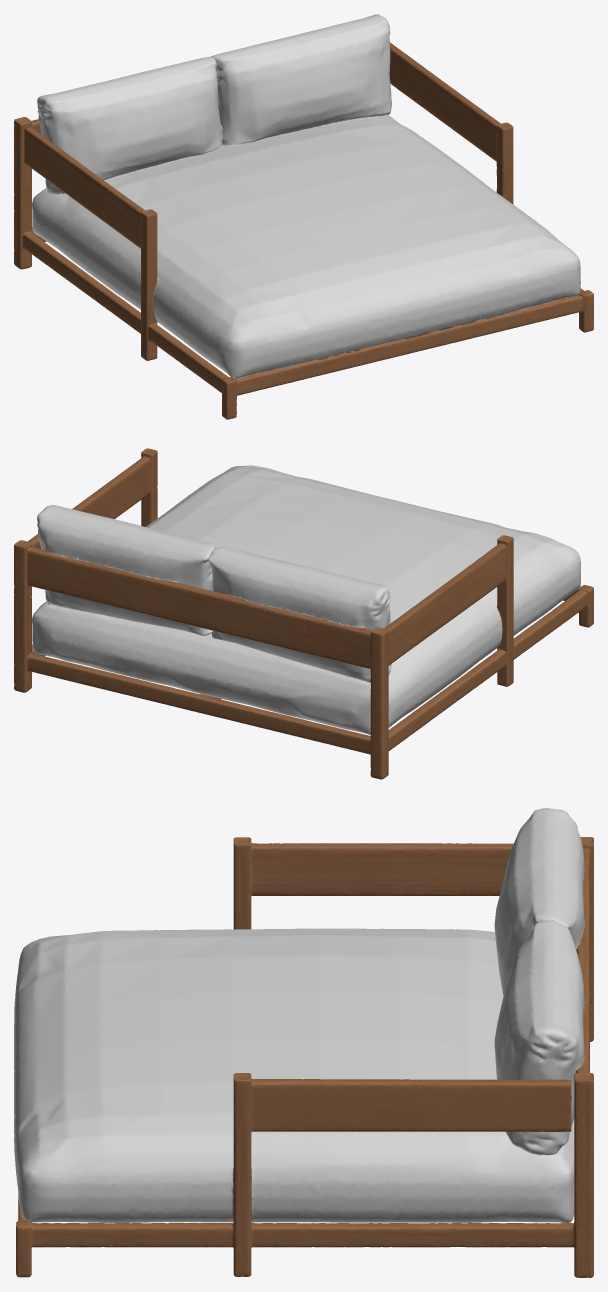
Rendered from modern_daybed_6dvh6m.glb.
The picture shows the model from 3 angles, top to bottom: view 1: azimuth 30°, elevation 25°; view 2: azimuth 150°, elevation 25°; view 3: azimuth 270°, elevation 25°; orthographic projection. The views are drawn at different scales.
Visible parts, largest first — view 1: world; view 2: world; view 3: world.
Boxes of the visible parts, bbox=[...] form: world: bbox=[14, 14, 593, 419]; world: bbox=[14, 448, 593, 779]; world: bbox=[14, 808, 593, 1277].
Bounding box in the file's own units: 0.9892 × 0.4495 × 0.9921.
1 material, 1 textured.
